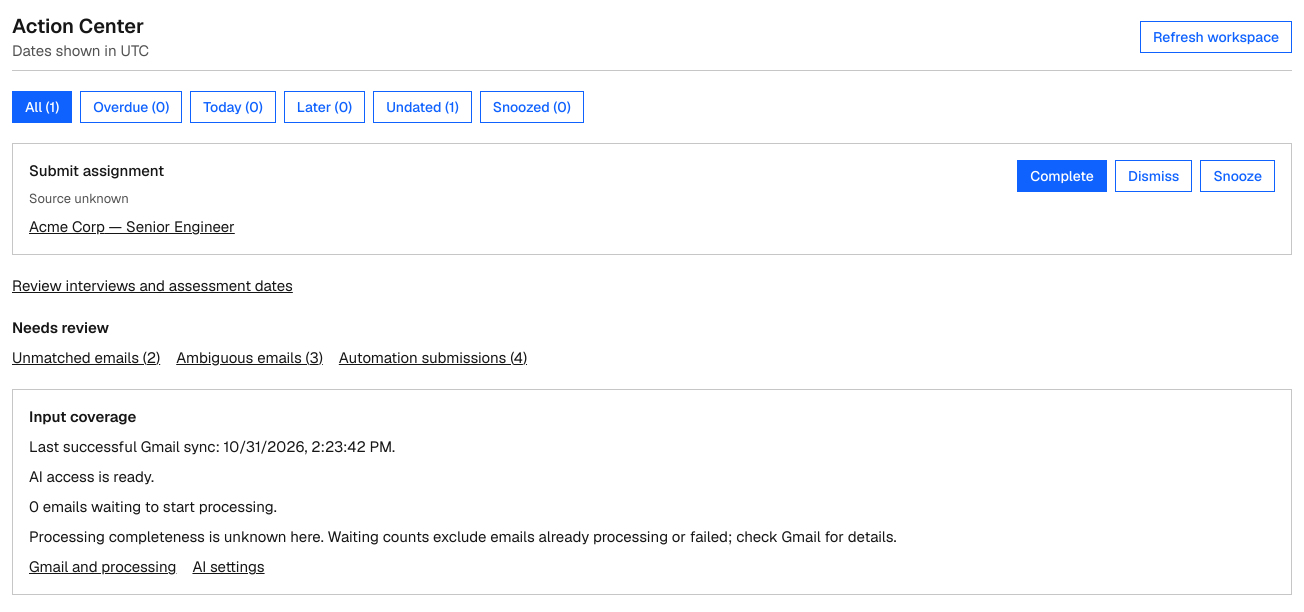
Test: daily workspace › uses existing Dismiss mutation once and refreshes counts
Click the button "Dismiss". click: (1154, 176)
box: [1115,160,1192,192]
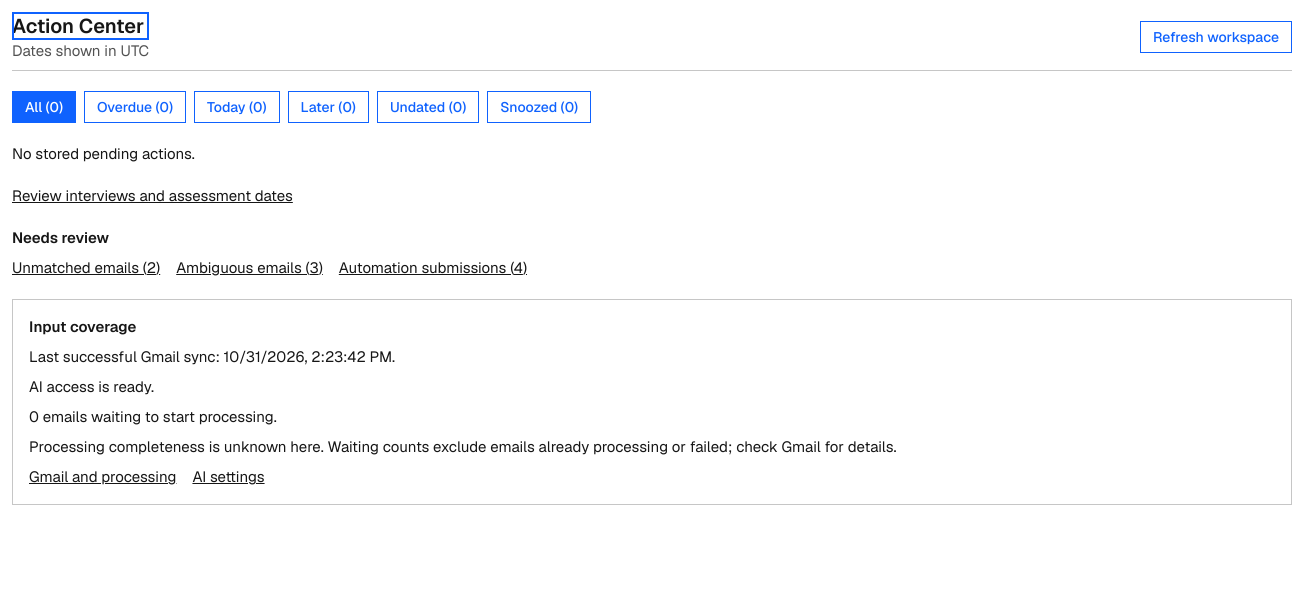
Result: the text "No stored pending actions." is shown at [12,144,195,163]
